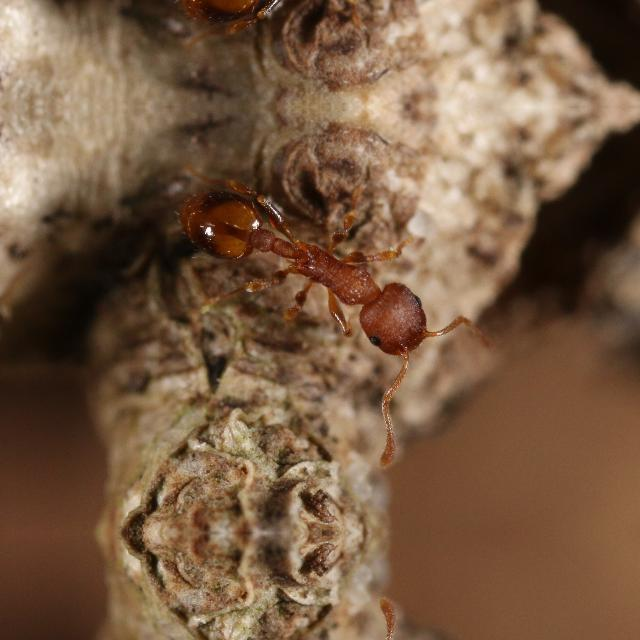Temnothorax: (146, 163, 484, 375), (146, 0, 484, 48)
